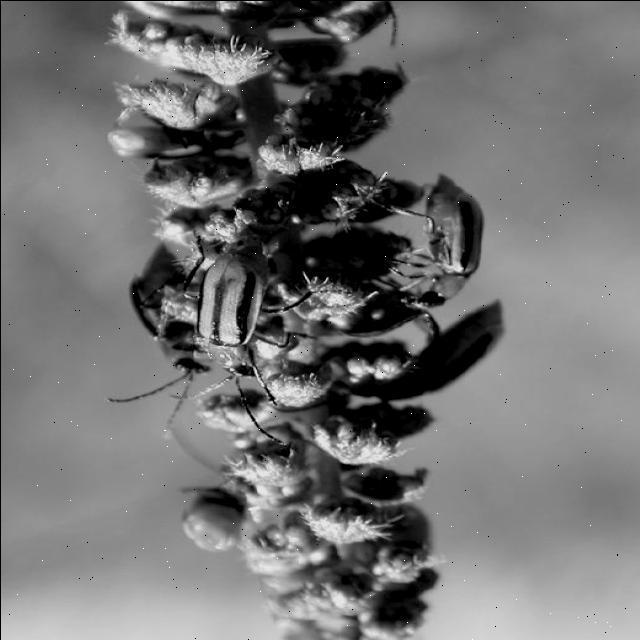trips: (165, 234, 293, 446), (119, 236, 219, 437), (346, 310, 510, 402), (394, 176, 482, 308), (102, 122, 252, 160)
